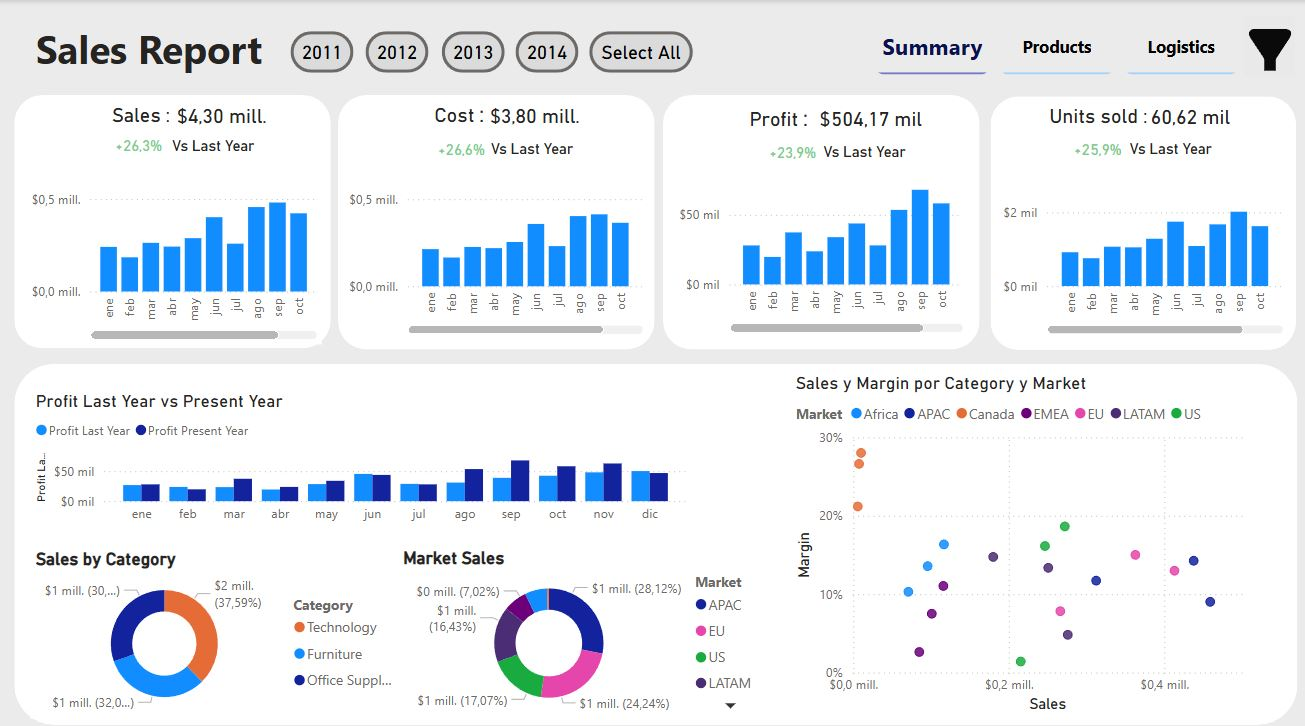

This screenshot's page, from the dashboard's own definition file:
{"tool":"powerbi","page":{"name":"Summary","canvas":[1280,720],"ordinal":0},"visuals":[{"type":"shape","box":[1207.6,28.2,49.9,38],"z":0,"group":"g1"},{"type":"actionButton","box":[286.7,30,60.8,40],"z":0,"group":"g6"},{"type":"textbox","title":"C T","box":[421.6,92.6,66.2,42.5],"z":0,"group":"g4"},{"type":"textbox","title":"V T","box":[110,95,78.8,48.8],"z":0,"group":"g3"},{"type":"textbox","title":"BT T","box":[725,96.2,78.8,37.5],"z":0,"group":"g2"},{"type":"textbox","title":"UV T","box":[1014.5,97.3,115,41.2],"z":0,"group":"g5"},{"type":"shape","box":[20,351.4,1238.6,348.6],"z":0},{"type":"group","id":"g1","title":"Slicer forma","box":[1207.6,28.2,49.9,41.2],"z":1000},{"type":"actionButton","box":[359.6,30,60.8,40],"z":1000,"group":"g6"},{"type":"shape","box":[1227,39.4,11.1,30],"z":1000,"group":"g1"},{"type":"card","title":"Coste T","fields":{"Values":["Global-Superstore.SUM_Coste"]},"box":[472.8,87.6,102.5,47.5],"z":1000,"group":"g4"},{"type":"card","title":"Unidades vendidas T","fields":{"Values":["Global-Superstore.SUM_Units"]},"box":[1101.2,89.8,108.8,47.5],"z":1000,"group":"g5"},{"type":"card","title":"Ventas T","fields":{"Values":["Global-Superstore.Medida"]},"box":[169,92.5,103.8,38.6],"z":1000,"group":"g3"},{"type":"card","title":"Beneficio T","fields":{"Values":["Global-Superstore.SUM_Profit"]},"box":[778.8,98.7,136.2,32.5],"z":1000,"group":"g2"},{"type":"actionButton","title":"Abrir Slicer ","box":[1208.1,15.6,48.7,57.4],"z":2000},{"type":"actionButton","box":[432.6,30,60.8,40],"z":2000,"group":"g6"},{"type":"actionButton","box":[504.3,30,60.8,40],"z":3000,"group":"g6"},{"type":"shape","box":[962.5,92.5,295,245],"z":3000},{"type":"shape","box":[646.7,92.2,305.6,245.6],"z":4000},{"type":"shape","box":[333.3,92.2,305.6,245.6],"z":5000},{"type":"shape","box":[20,92.2,305.6,244.4],"z":6000},{"type":"columnChart","fields":{"Y":["Sum(Global-Superstore.Sales)"],"Category":["DateTable.Date Jerarquía.Mes"]},"box":[33,159.9,285.1,172.1],"z":7000},{"type":"columnChart","fields":{"Y":["CountNonNull(Global-Superstore.Quantity)"],"Category":["DateTable.Date Jerarquía.Mes"]},"box":[970,155.8,280,171.7],"z":8000},{"type":"columnChart","fields":{"Y":["Sum(Global-Superstore.Cost)"],"Category":["DateTable.Date Jerarquía.Mes"]},"box":[339.2,161.7,293.3,165.8],"z":9000},{"type":"columnChart","fields":{"Y":["Sum(Global-Superstore.Profit)"],"Category":["DateTable.Date Jerarquía.Mes"]},"box":[657.5,153.8,283.8,172.5],"z":10000},{"type":"donutChart","title":"Sales by Category","fields":{"Y":["Sum(Global-Superstore.Sales)"],"Category":["Global-Superstore.Category"]},"box":[35.7,530,365.7,164.3],"z":11000},{"type":"donutChart","title":"Market Sales","fields":{"Y":["Sum(Global-Superstore.Sales)"],"Category":["Global-Superstore.Market"]},"box":[391.4,528.6,358.6,165.7],"z":12000},{"type":"textbox","box":[36.5,17.4,248.6,66.1],"z":13000},{"type":"pageNavigator","box":[851.7,17.4,351.1,55.6],"z":14000},{"type":"group","id":"g2","title":"Grupo 1","box":[725,96.2,190,37.5],"z":16000},{"type":"group","id":"g3","title":"Grupo 2","box":[110,92.5,162.7,51.2],"z":17000},{"type":"group","id":"g4","title":"Grupo 3","box":[421.6,87.6,153.8,47.5],"z":18000},{"type":"group","id":"g5","title":"Grupo 4","box":[1014.5,89.8,195.5,48.8],"z":19000},{"type":"group","id":"g6","title":"Grupo 1","box":[286.7,30,278.3,40],"z":20000},{"type":"scatterChart","fields":{"Y":["Global-Superstore.Margin"],"X":["Sum(Global-Superstore.Sales)"],"Category":["Global-Superstore.Category"],"Series":["Global-Superstore.Market"]},"box":[770,360,465,333.3],"z":21000},{"type":"actionButton","box":[575,30,100,40],"z":23000},{"type":"clusteredColumnChart","title":"Profit Last Year vs Present Year","fields":{"Category":["DateTable.Date Jerarquía.Mes"],"Y":["Global-Superstore.Profit PY","Sum(Global-Superstore.Profit)"]},"box":[36.2,376.2,638.8,137.5],"z":24000},{"type":"card","fields":{"Values":["Global-Superstore.Profit Growth % Improved"]},"box":[735,130,73.8,37.5],"z":25000},{"type":"card","fields":{"Values":["Global-Superstore.Sales Growth % Improved"]},"box":[108.8,123.8,63.8,36.2],"z":26000},{"type":"card","fields":{"Values":["Global-Superstore.Quantity Growth % Improved"]},"box":[1023.8,128.8,83.8,32.5],"z":27000},{"type":"card","fields":{"Values":["Global-Superstore.Cost Growth % Improved"]},"box":[415,128.8,73.8,33.8],"z":28000},{"type":"textbox","box":[167.5,126.2,121.2,31.2],"z":29000},{"type":"textbox","box":[475,128.8,121.2,31.2],"z":30000},{"type":"textbox","box":[796.2,132.5,121.2,31.2],"z":31000},{"type":"textbox","box":[1091.2,128.8,121.2,31.2],"z":32000}]}

Visuals, with their boxes in screenshot pixels (x1, y1, x2, y2), scaled from the page's 1280x720 canvas onto the 1305x726 screenshot:
shape: select_region(1231, 28, 1282, 67)
actionButton: select_region(292, 30, 354, 71)
"C T" textbox: select_region(430, 93, 497, 136)
"V T" textbox: select_region(112, 96, 192, 145)
"BT T" textbox: select_region(739, 97, 819, 135)
"UV T" textbox: select_region(1034, 98, 1152, 140)
shape: select_region(20, 354, 1283, 706)
"Slicer forma" group: select_region(1231, 28, 1282, 70)
actionButton: select_region(367, 30, 429, 71)
shape: select_region(1251, 40, 1262, 70)
"Coste T" card: select_region(482, 88, 587, 136)
"Unidades vendidas T" card: select_region(1123, 91, 1234, 138)
"Ventas T" card: select_region(172, 93, 278, 132)
"Beneficio T" card: select_region(794, 100, 933, 132)
"Abrir Slicer " actionButton: select_region(1232, 16, 1281, 74)
actionButton: select_region(441, 30, 503, 71)
actionButton: select_region(514, 30, 576, 71)
shape: select_region(981, 93, 1282, 340)
shape: select_region(659, 93, 971, 341)
shape: select_region(340, 93, 651, 341)
shape: select_region(20, 93, 332, 339)
columnChart - Sum(Global-Superstore.Sales) x DateTable.Date Jerarquía.Mes: select_region(34, 161, 324, 335)
columnChart - CountNonNull(Global-Superstore.Quantity) x DateTable.Date Jerarquía.Mes: select_region(989, 157, 1274, 330)
columnChart - Sum(Global-Superstore.Cost) x DateTable.Date Jerarquía.Mes: select_region(346, 163, 645, 330)
columnChart - Sum(Global-Superstore.Profit) x DateTable.Date Jerarquía.Mes: select_region(670, 155, 960, 329)
"Sales by Category" donutChart: select_region(36, 534, 409, 700)
"Market Sales" donutChart: select_region(399, 533, 765, 700)
textbox: select_region(37, 18, 291, 84)
pageNavigator: select_region(868, 18, 1226, 74)
"Grupo 1" group: select_region(739, 97, 933, 135)
"Grupo 2" group: select_region(112, 93, 278, 145)
"Grupo 3" group: select_region(430, 88, 587, 136)
"Grupo 4" group: select_region(1034, 91, 1234, 140)
"Grupo 1" group: select_region(292, 30, 576, 71)
scatterChart - Global-Superstore.Margin x Sum(Global-Superstore.Sales): select_region(785, 363, 1259, 699)
actionButton: select_region(586, 30, 688, 71)
"Profit Last Year vs Present Year" clusteredColumnChart: select_region(37, 379, 688, 518)
card - Global-Superstore.Profit Growth % Improved: select_region(749, 131, 825, 169)
card - Global-Superstore.Sales Growth % Improved: select_region(111, 125, 176, 161)
card - Global-Superstore.Quantity Growth % Improved: select_region(1044, 130, 1129, 163)
card - Global-Superstore.Cost Growth % Improved: select_region(423, 130, 498, 164)
textbox: select_region(171, 127, 294, 159)
textbox: select_region(484, 130, 608, 161)
textbox: select_region(812, 134, 935, 165)
textbox: select_region(1113, 130, 1236, 161)
